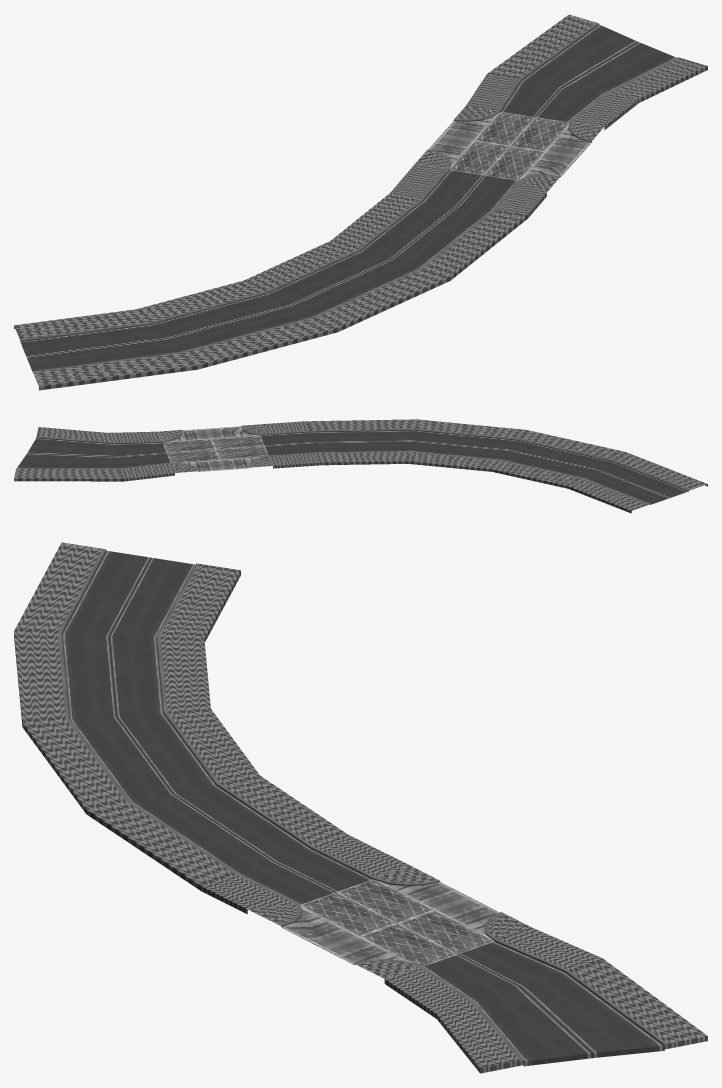
The model's file is road_sfw47.obj.
3 views of the same model, one above another, from view 1: azimuth 30°, elevation 25°; view 2: azimuth 150°, elevation 25°; view 3: azimuth 270°, elevation 25° (orthographic). The views are drawn at different scales.
Parts seen in each view (by area): view 1: road_SFW47; view 2: road_SFW47; view 3: road_SFW47.
Boxes of the visible parts, bbox=[...] form: road_SFW47: bbox=[14, 14, 707, 390]; road_SFW47: bbox=[14, 419, 707, 513]; road_SFW47: bbox=[14, 542, 707, 1073].
Bounding box in the file's own units: 130 × 0.7962 × 72.59.
4 materials, 4 textured.
